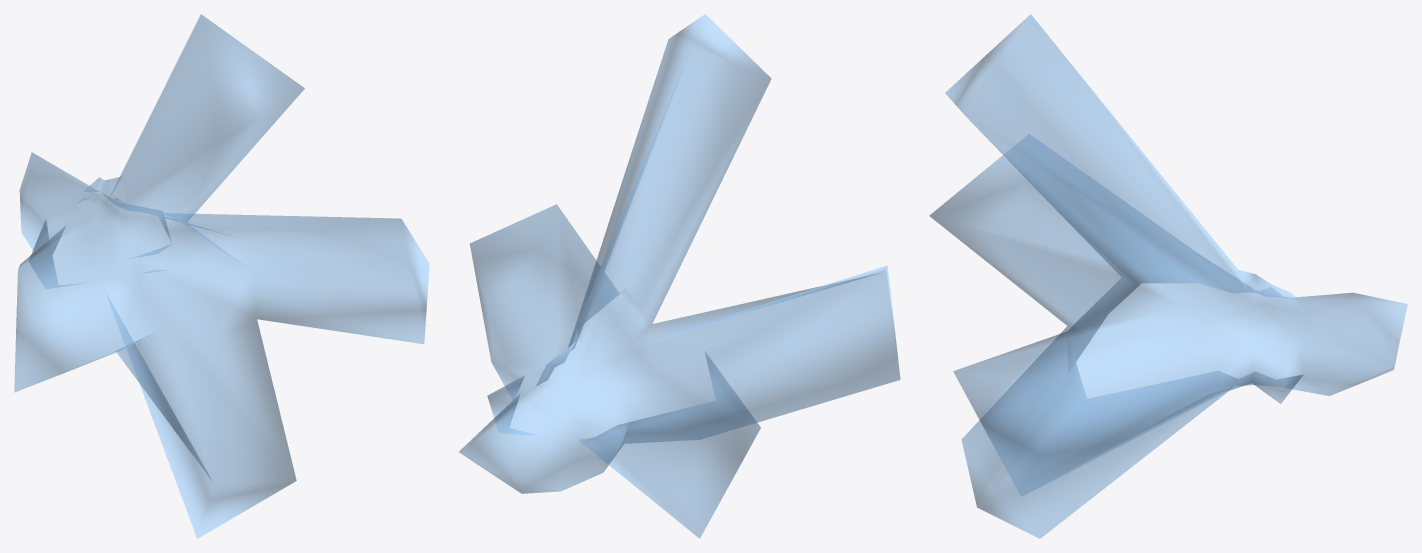
Rendered from sshighcouncil_shield.gltf.
3 renders of one model, left to right at view 1: azimuth 30°, elevation 25°; view 2: azimuth 150°, elevation 25°; view 3: azimuth 270°, elevation 25°, orthographic.
Visible parts, largest first — view 1: sshighcouncil.shield; view 2: sshighcouncil.shield; view 3: sshighcouncil.shield.
Part boxes in pixels (x1,y1,x2,y2): sshighcouncil.shield: (14, 14, 429, 538); sshighcouncil.shield: (459, 14, 900, 538); sshighcouncil.shield: (929, 14, 1407, 538).
Size of the model in its own units: 7.68 by 9.42 by 7.8.
